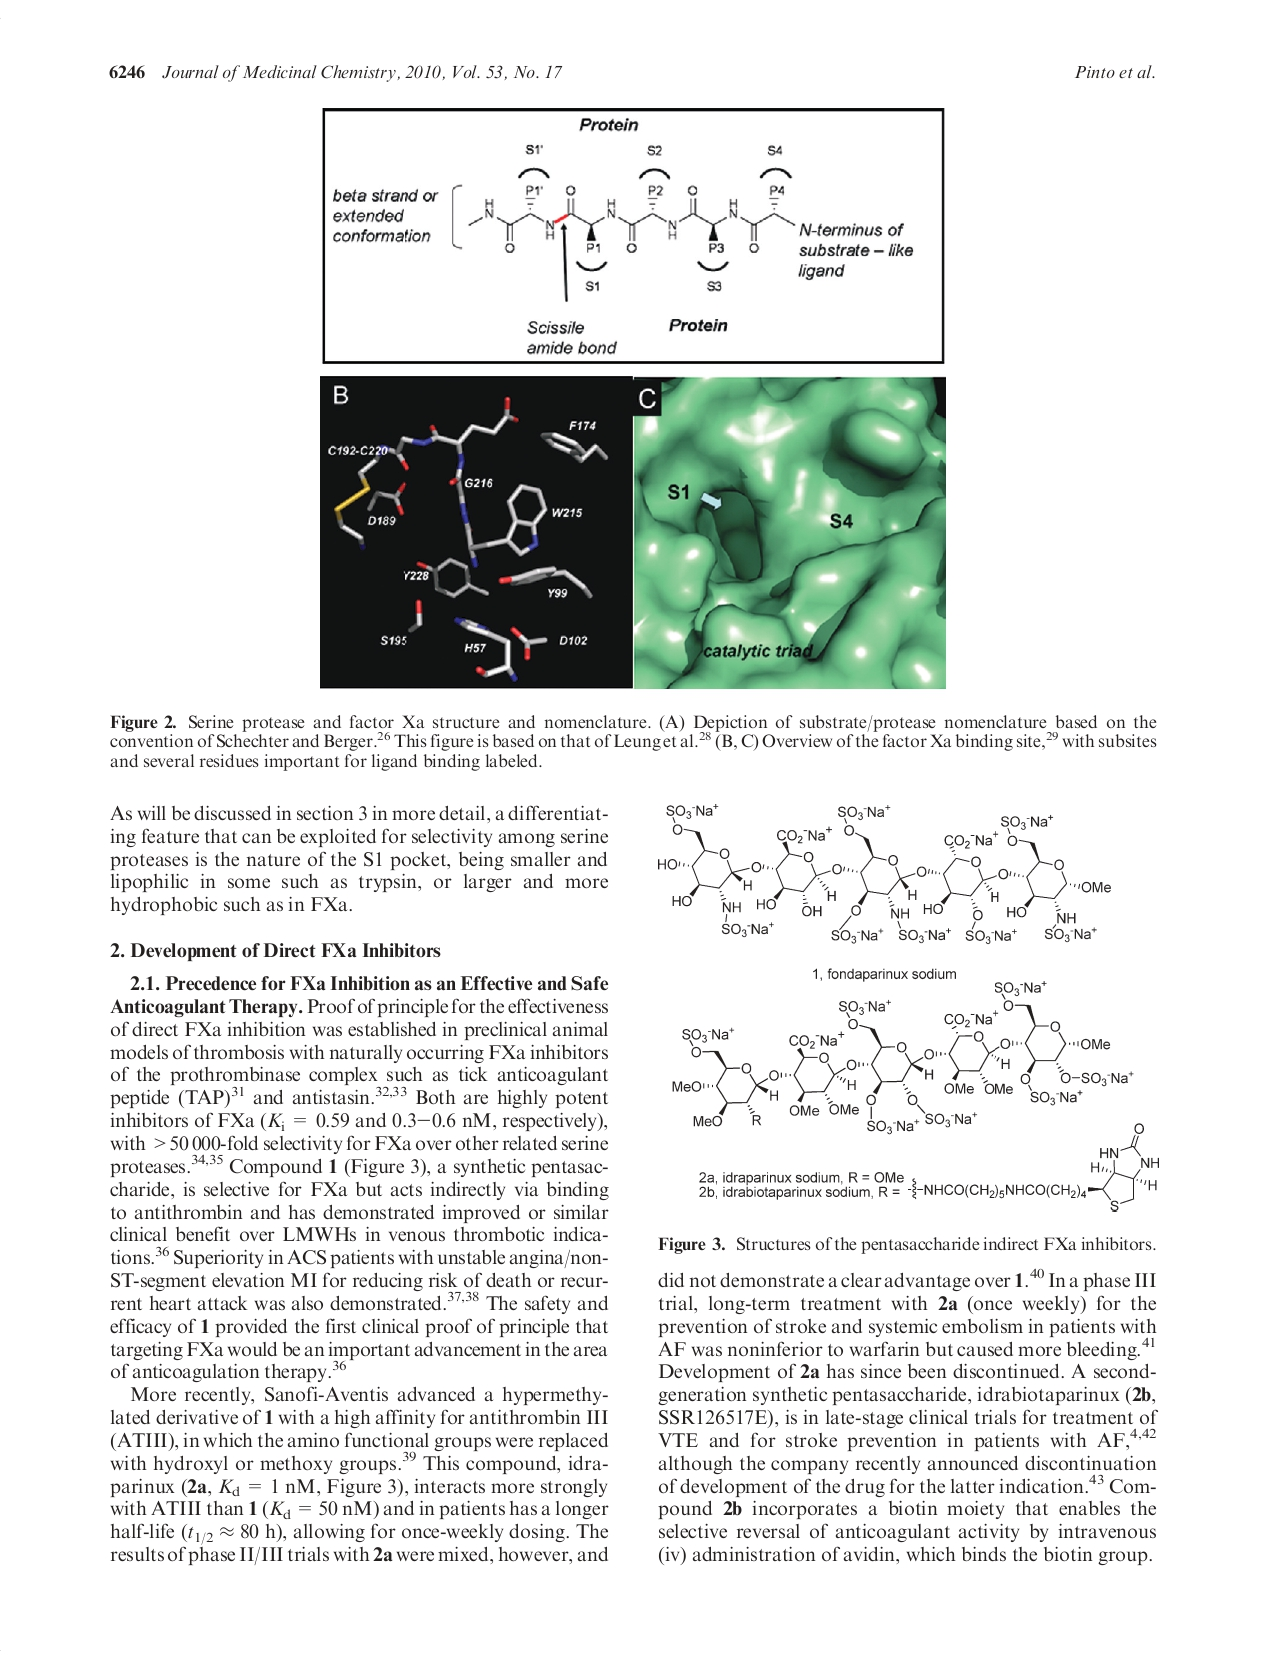exist_molecular: (668, 977, 1140, 1130), (652, 798, 1116, 950), (469, 177, 797, 277), (1086, 1126, 1164, 1217)
